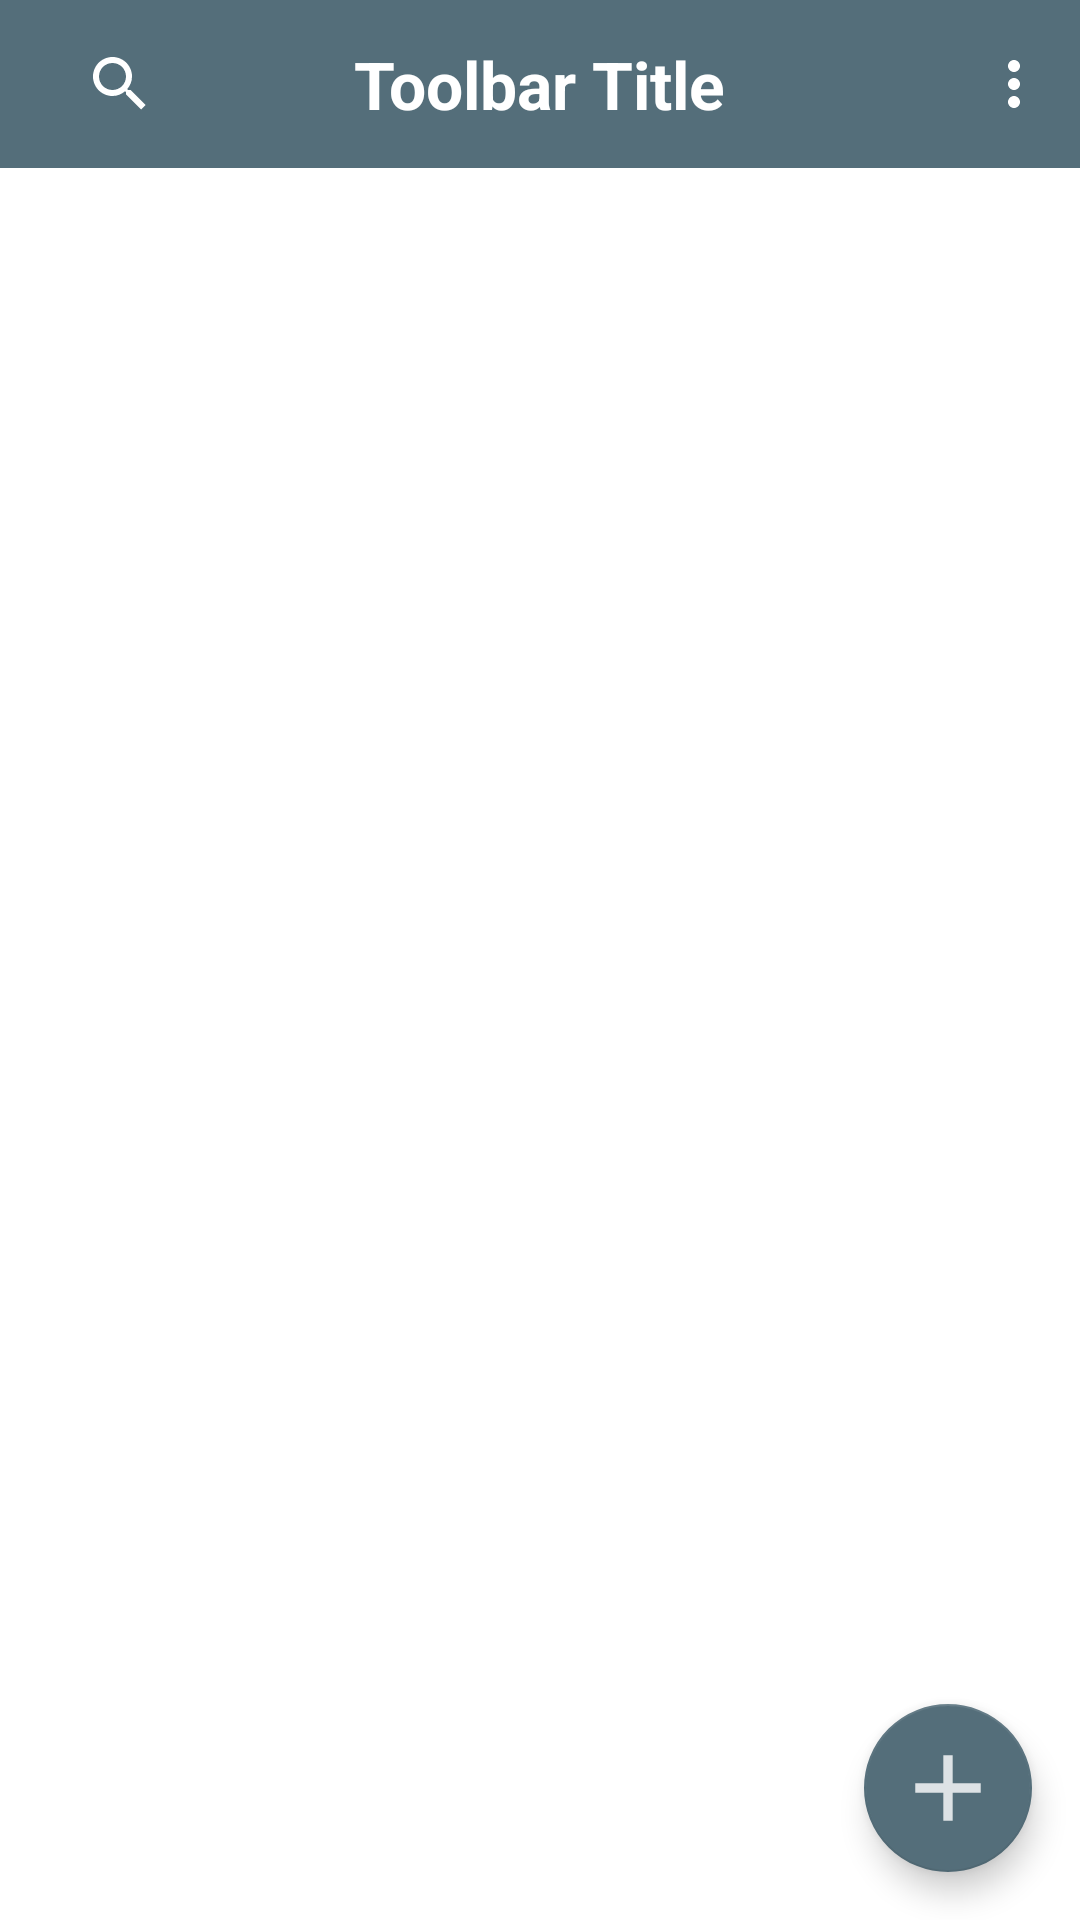

Screen size 1080px×1920px. Icon name, then its box in pixels as (x1, y1, x2, y2):
add room: (864, 1704, 1032, 1872)
